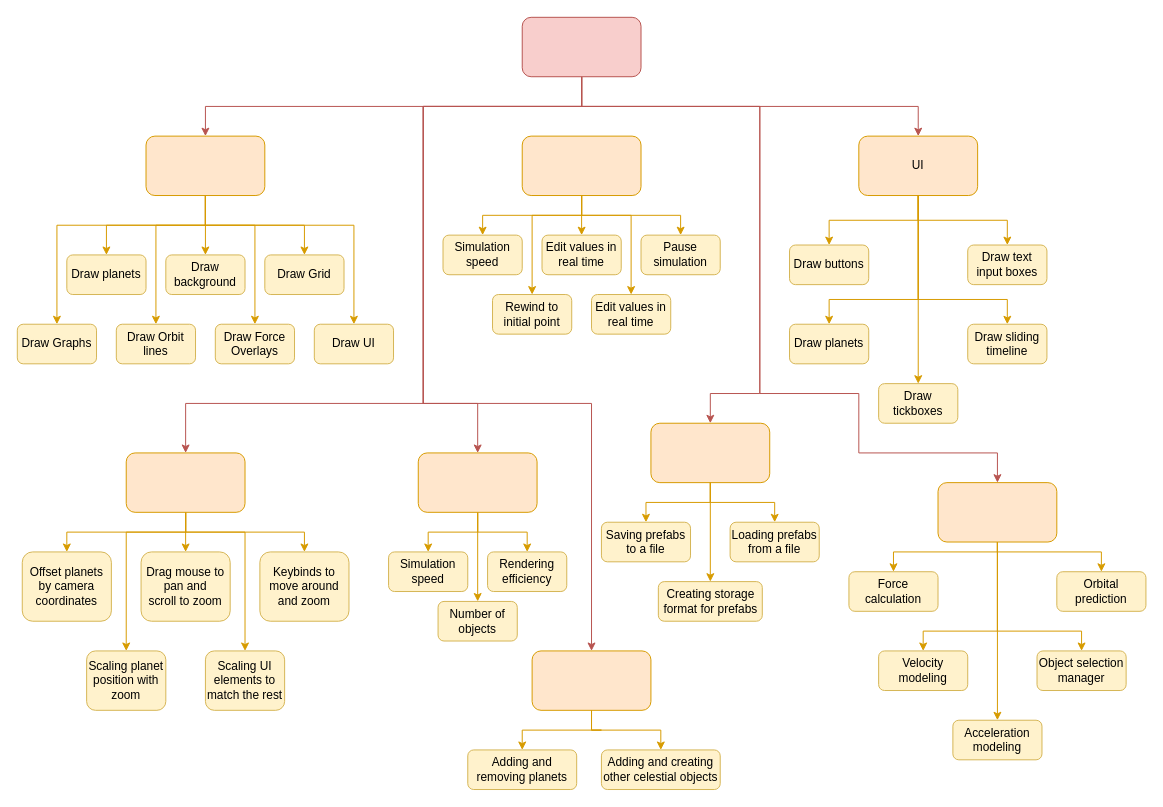
Image size: 1163x807. Some labels were removed from this diagram. Here are the shapes that lost their labels. From the top down, the centre of each, then its label:
point (581, 46): Astrophysics s imulator
point (205, 165): Renderer
point (581, 165): Time controller
point (710, 452): Importing and exporting prefabs
point (185, 482): Camera controller
point (477, 482): Performance and op timisation
point (997, 512): Physics engine
point (591, 680): Object manager
